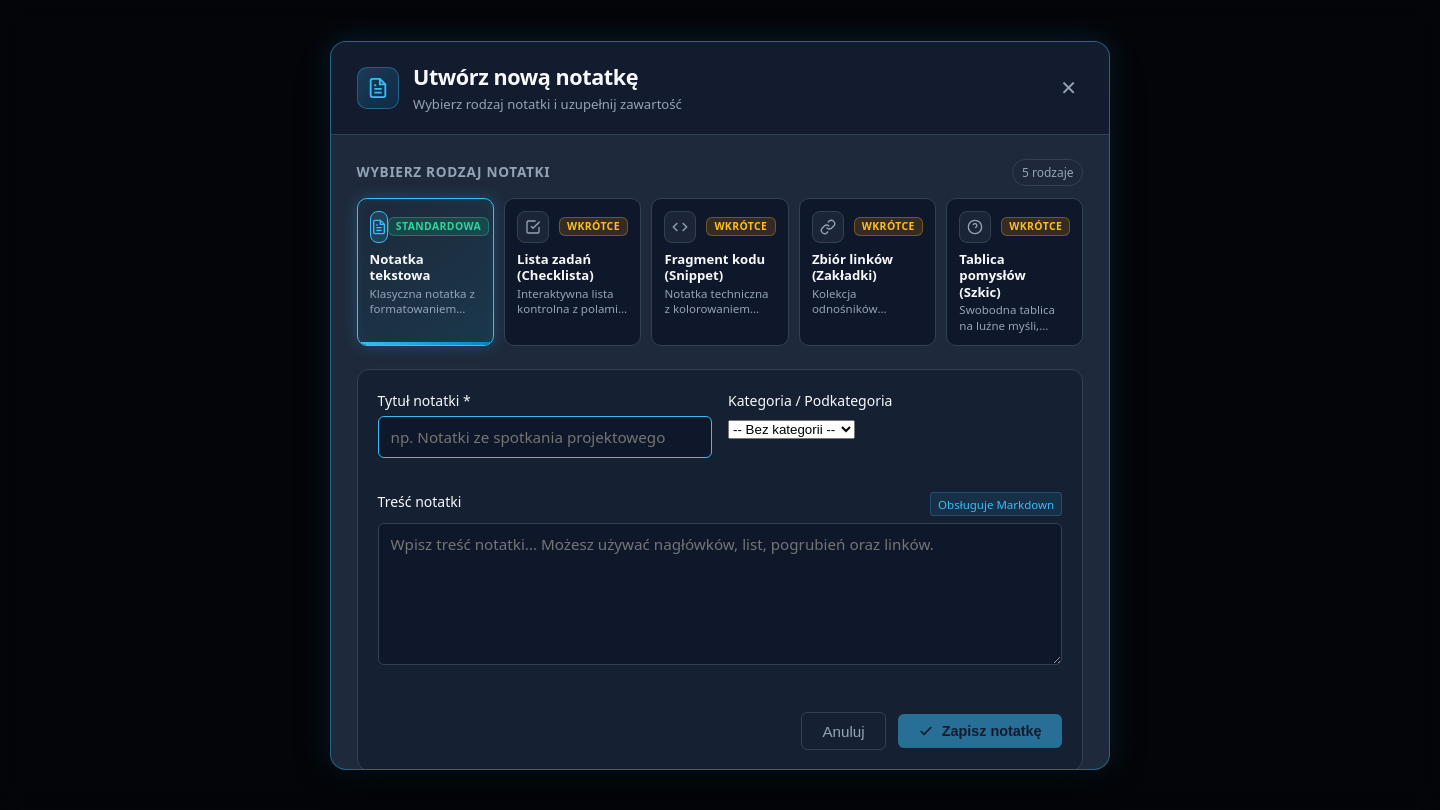
Test: CreateNoteModal Component › displays error message if creating note fails
Type "Test" into the field with test id "create-note-title-input" at (545, 437), box 378,416 -> 712,458
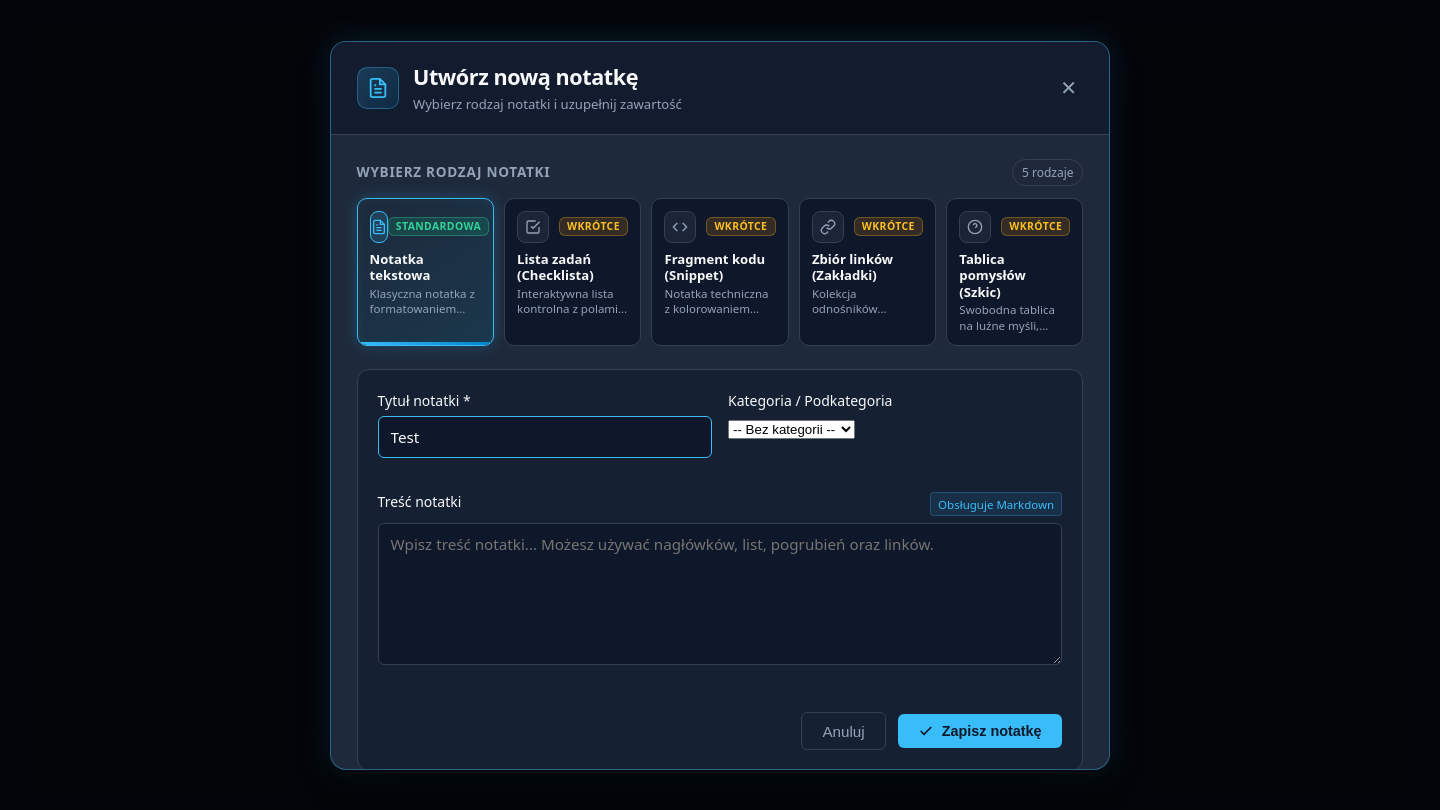
Click the button with test id "create-note-submit-btn" at (980, 731), box 898,714 -> 1062,748
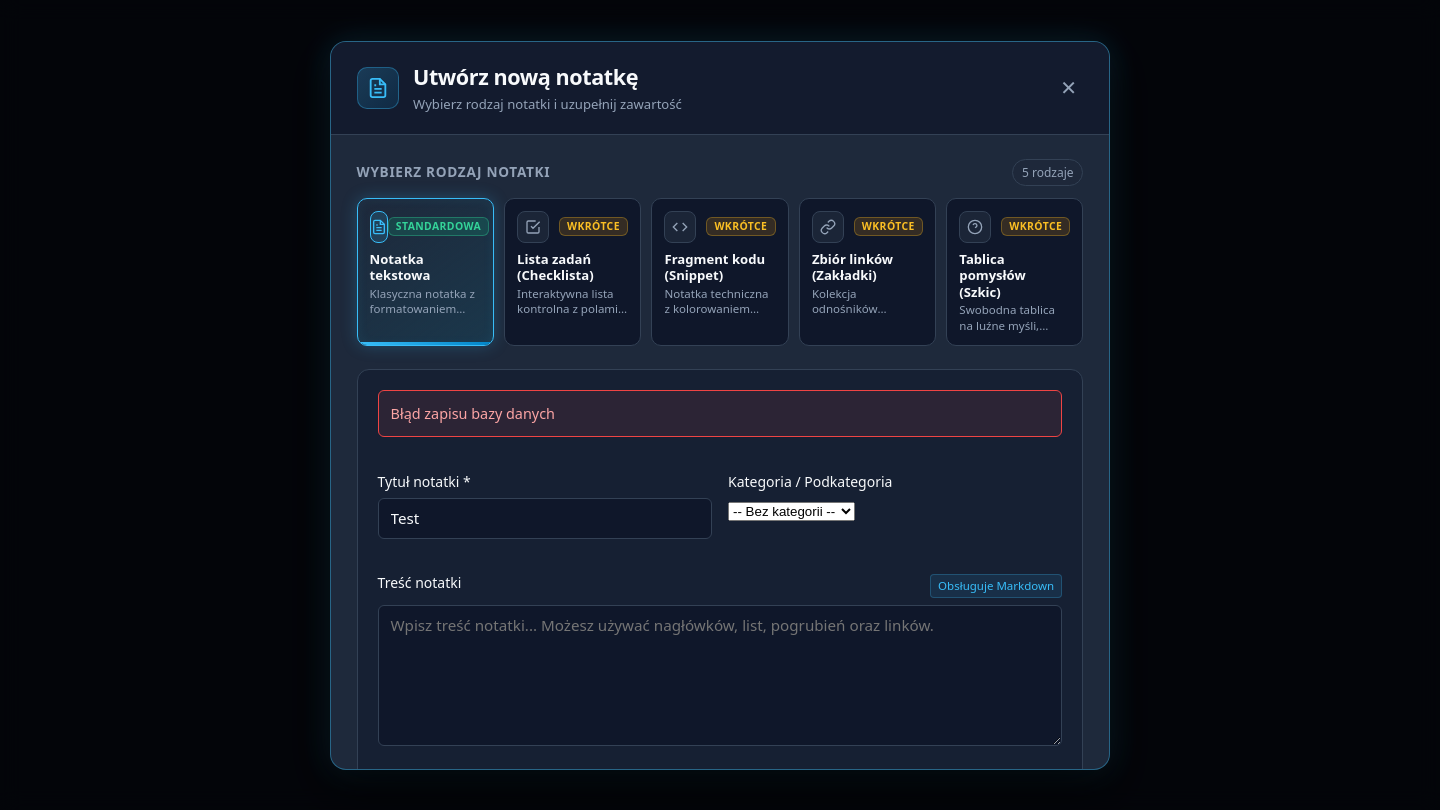
Expected: the message reads "Błąd zapisu bazy danych", 391,404 -> 555,423
